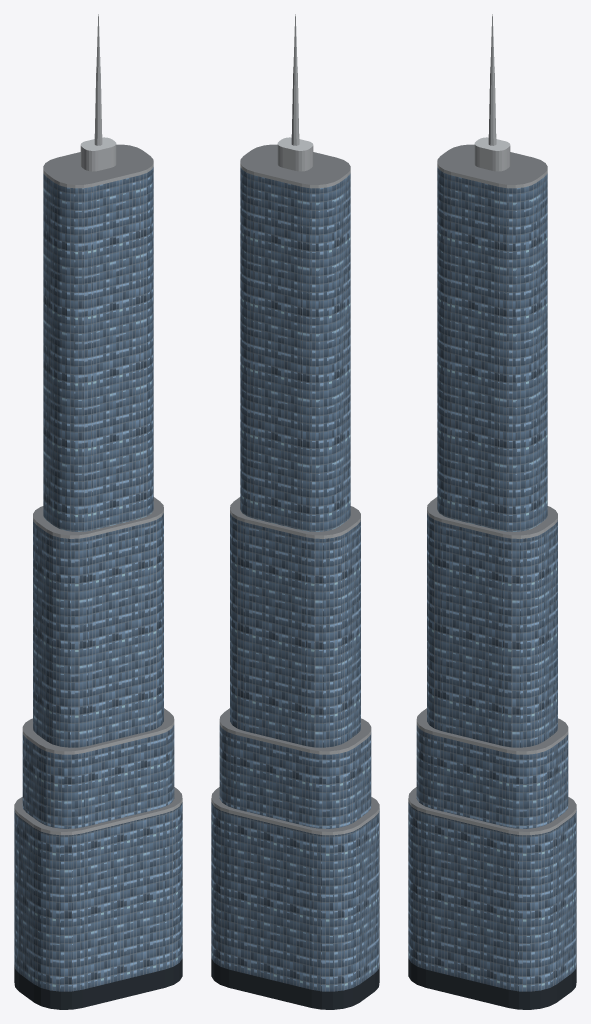
File: tower_401_n_wabash.glb
3 renders of one model, left to right at view 1: azimuth 30°, elevation 25°; view 2: azimuth 150°, elevation 25°; view 3: azimuth 330°, elevation 25°, orthographic.
Visible parts, largest first — view 1: tower_401_n_wabash; view 2: tower_401_n_wabash; view 3: tower_401_n_wabash.
Boxes of the visible parts, <box> form: tower_401_n_wabash: <box>14,14,182,1009</box>; tower_401_n_wabash: <box>211,14,379,1009</box>; tower_401_n_wabash: <box>408,14,576,1009</box>.
Size of the model in its own units: 66 by 423 by 40.
Materials: 2 (2 with a texture image).
